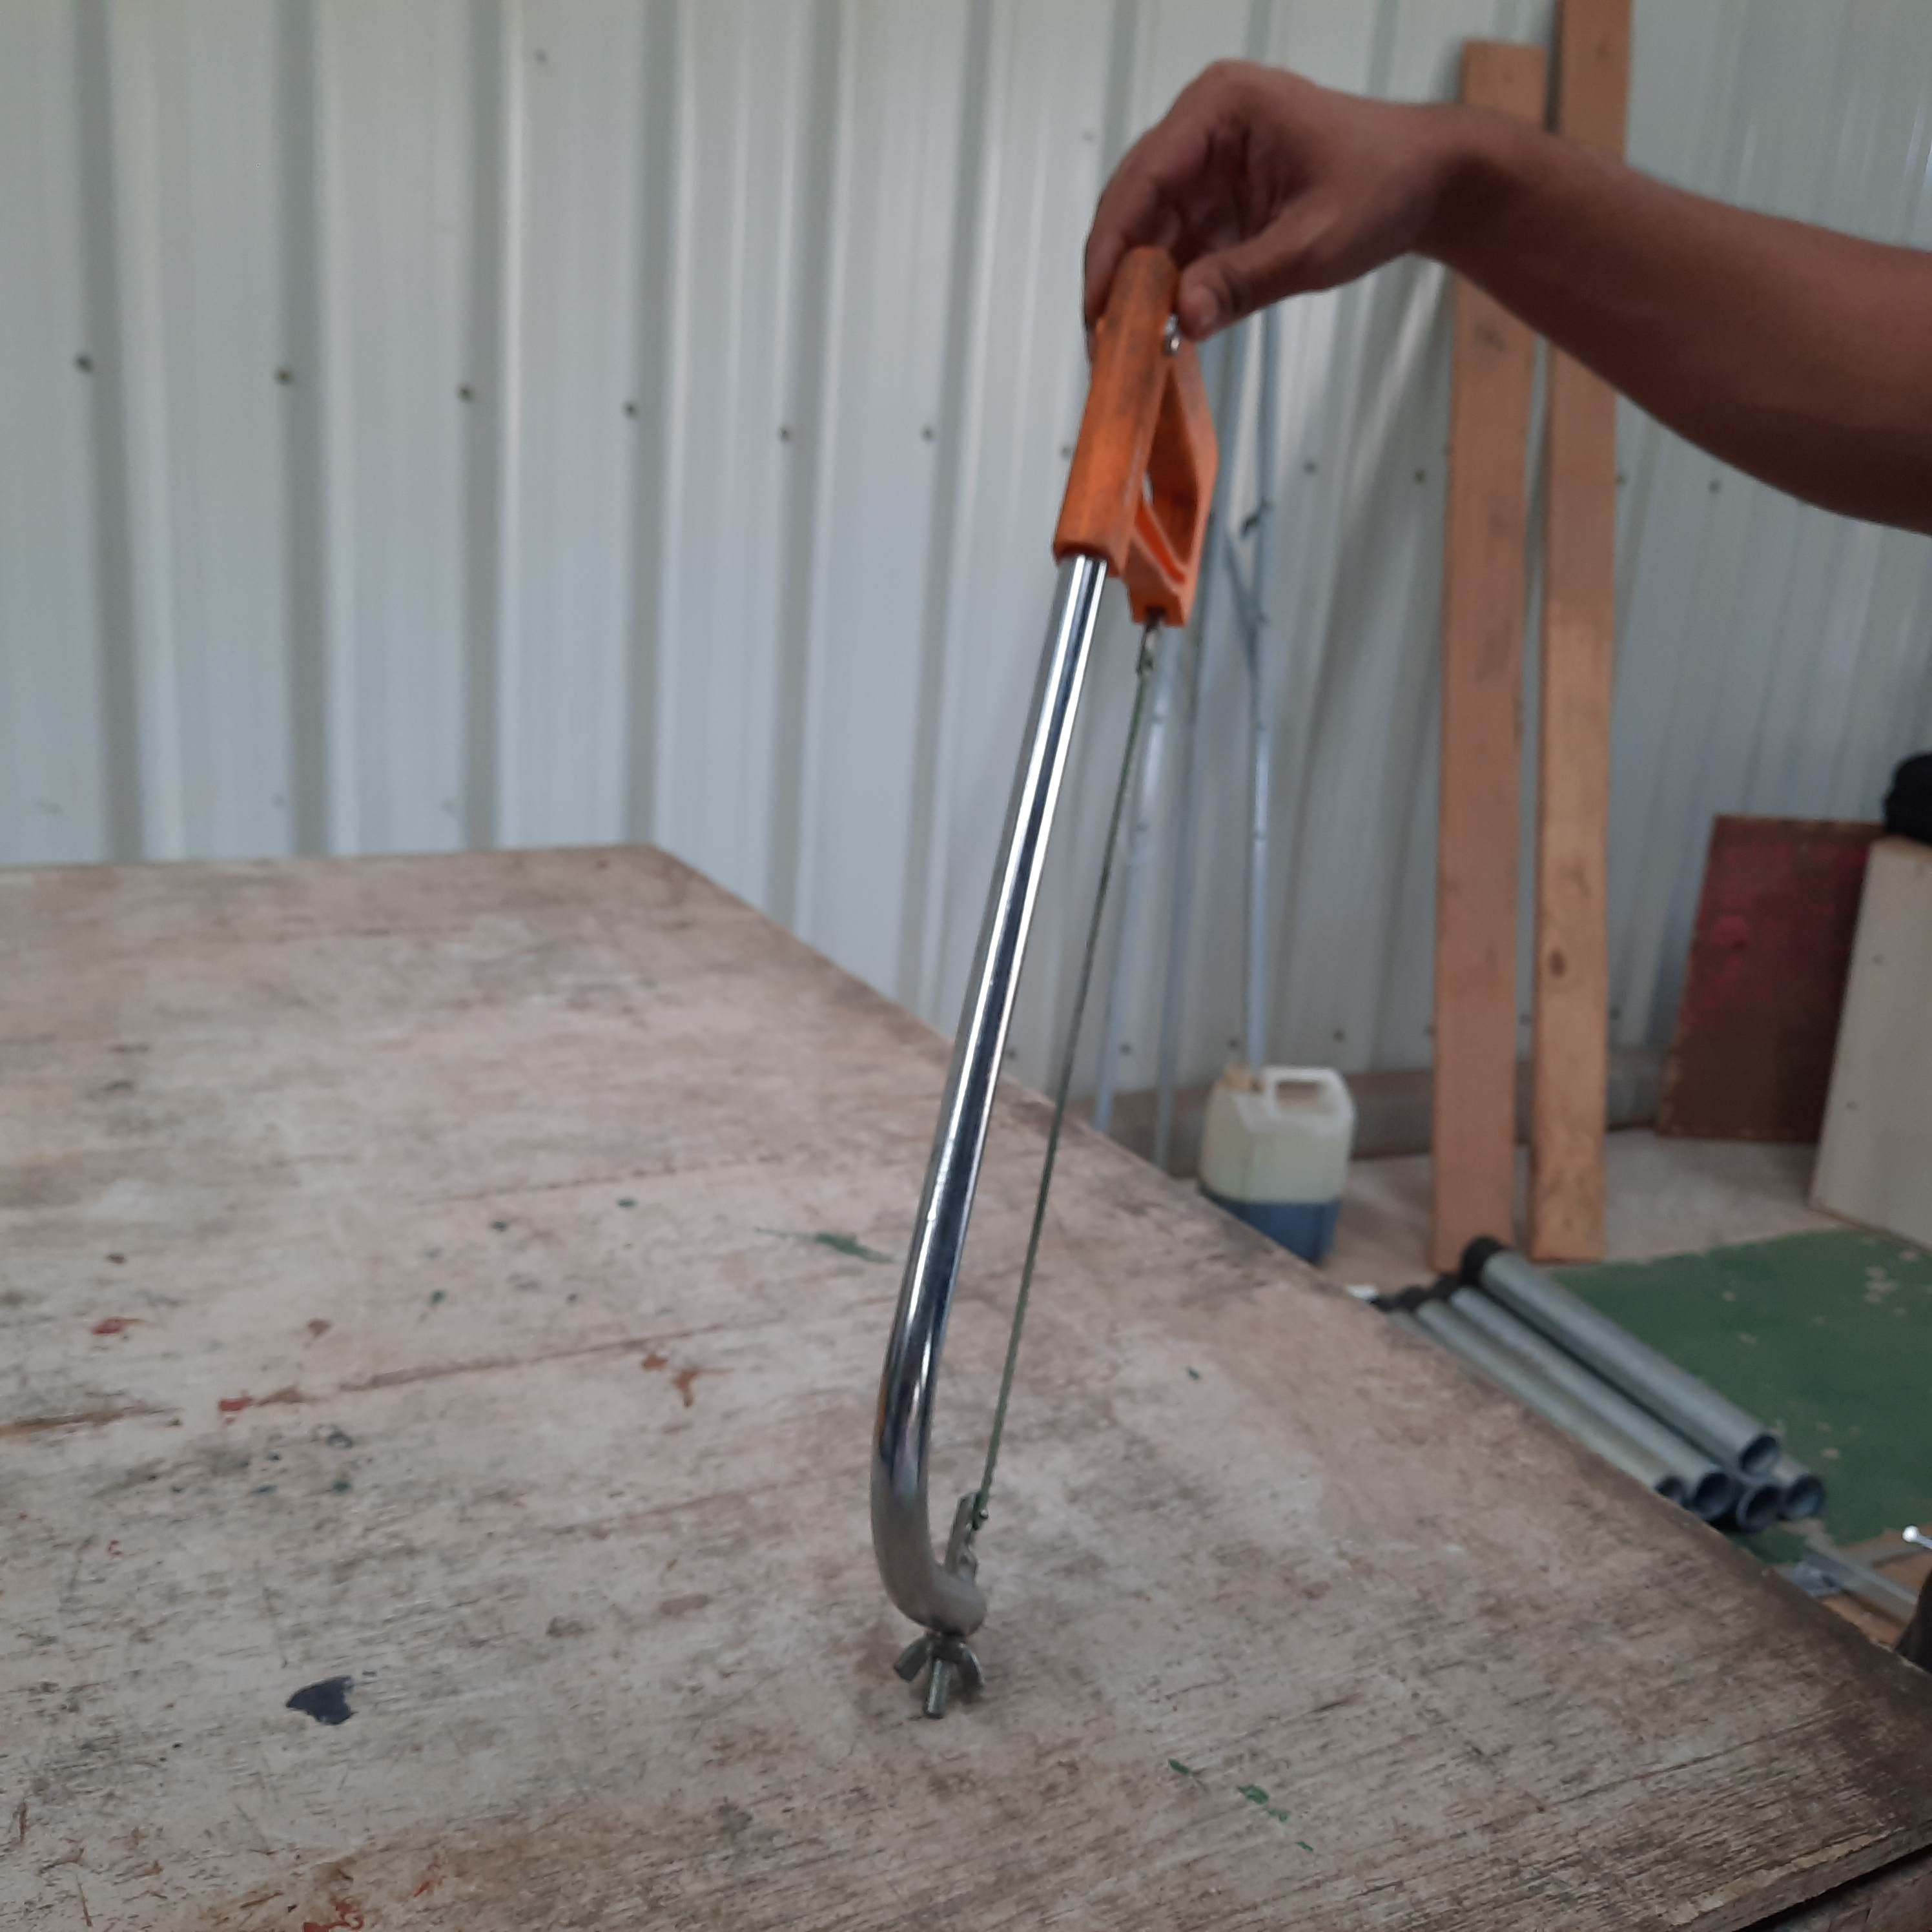Hexaframe: (832, 237, 1270, 1776)
